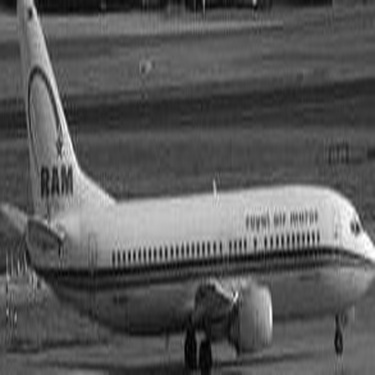airplane: (3, 4, 369, 369)
